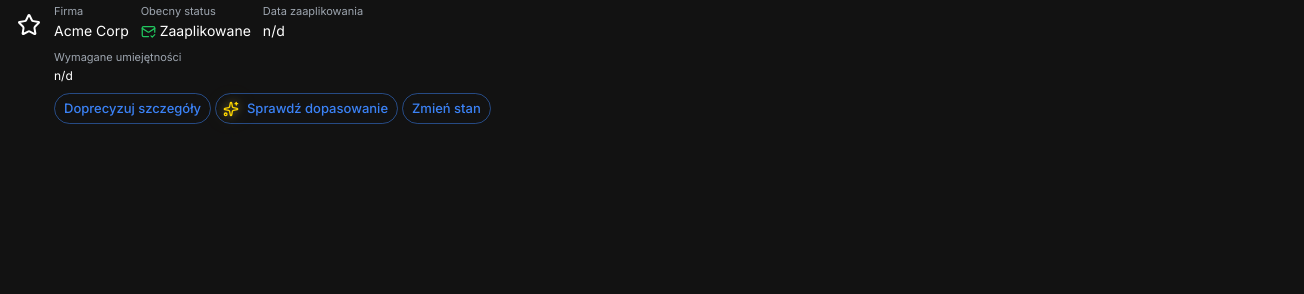
Test: ApplicationStatusEditor › returns to read-only view when change is cancelled
This screenshot has width=1304, height=294.
Click the button "Zmień stan" at (446,109), box [402, 94, 491, 124]
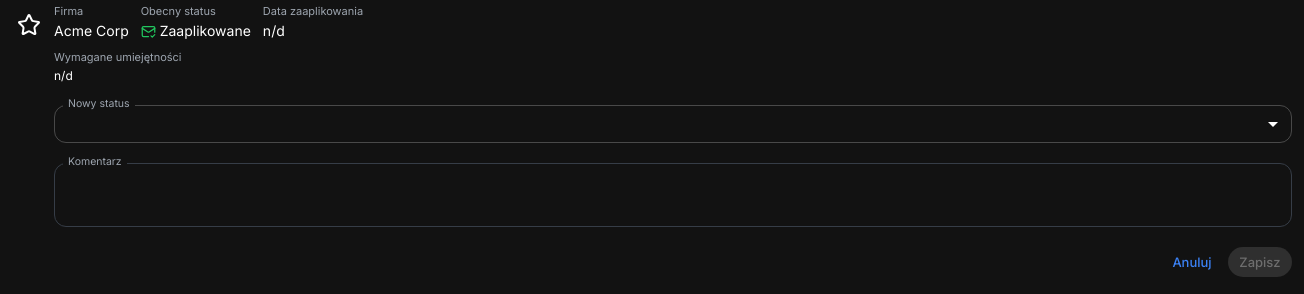
Check: the dropdown named "Nowy status" is shown, box [54, 106, 1292, 143]
Click the button "Anuluj" at (1192,262), box [1160, 247, 1224, 277]
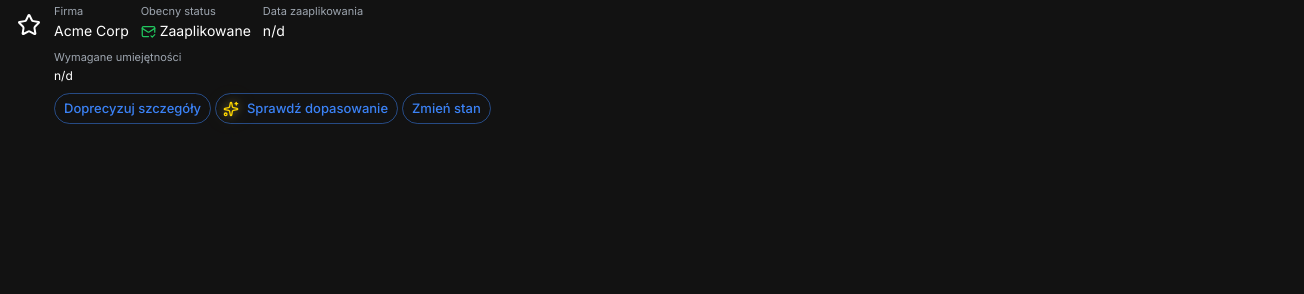
Check: the label labelled "Nowy status" is gone
Check: the button "Zmień stan" is shown, box [402, 94, 491, 124]
